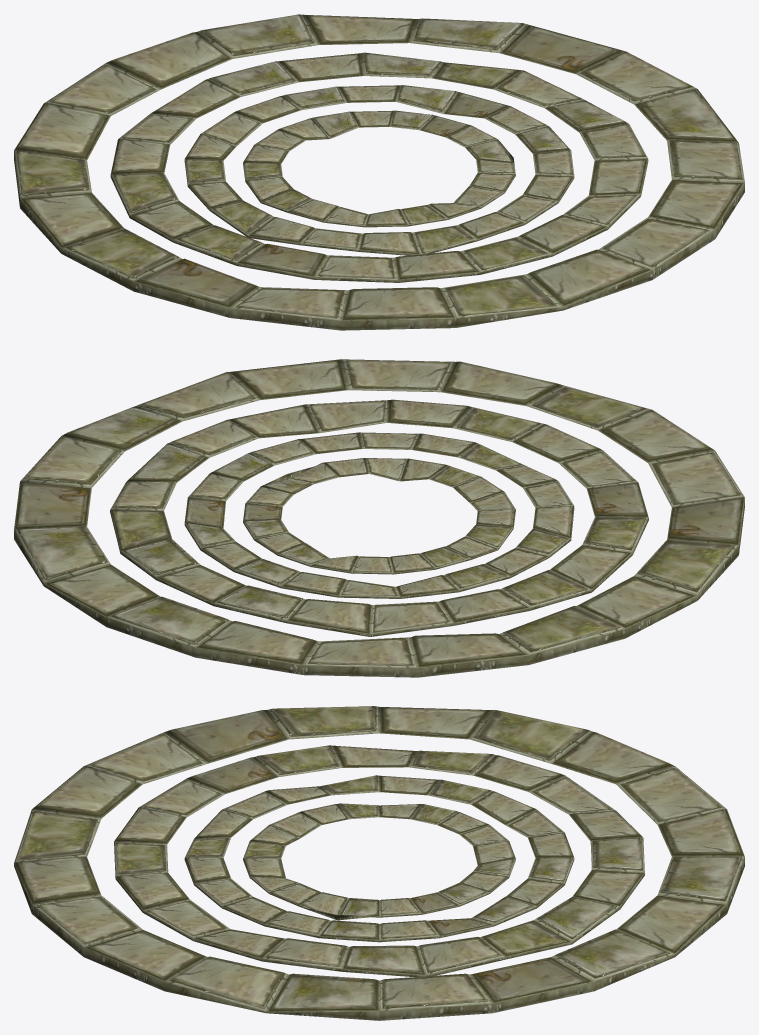
File: stone-circle-01.fbx
3 views of the same model, one above another, from view 1: azimuth 30°, elevation 25°; view 2: azimuth 150°, elevation 25°; view 3: azimuth 270°, elevation 25° (orthographic).
Parts seen in each view (by area): view 1: Cylinder.025; view 2: Cylinder.025; view 3: Cylinder.025.
Boxes of the visible parts, x1,y1,x2,y2 form: Cylinder.025: [14, 14, 744, 330]; Cylinder.025: [14, 359, 744, 677]; Cylinder.025: [14, 706, 744, 1020].
Size of the model in its own units: 6.45 by 0.12 by 6.45.
